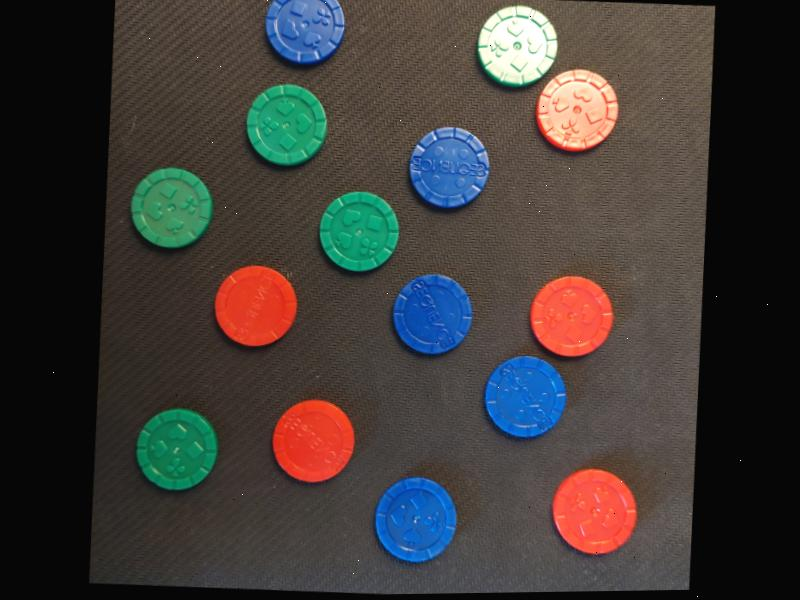Blue_Token: (366, 462, 465, 571), (473, 343, 576, 443), (384, 253, 478, 362), (404, 118, 496, 226), (264, 0, 357, 70)
Green_Token: (119, 391, 229, 500), (307, 180, 409, 280), (464, 0, 561, 94), (240, 75, 335, 170), (123, 158, 218, 248)
Red_Token: (525, 266, 624, 366), (267, 388, 365, 488), (205, 257, 304, 351), (554, 464, 642, 561), (533, 63, 623, 151)
